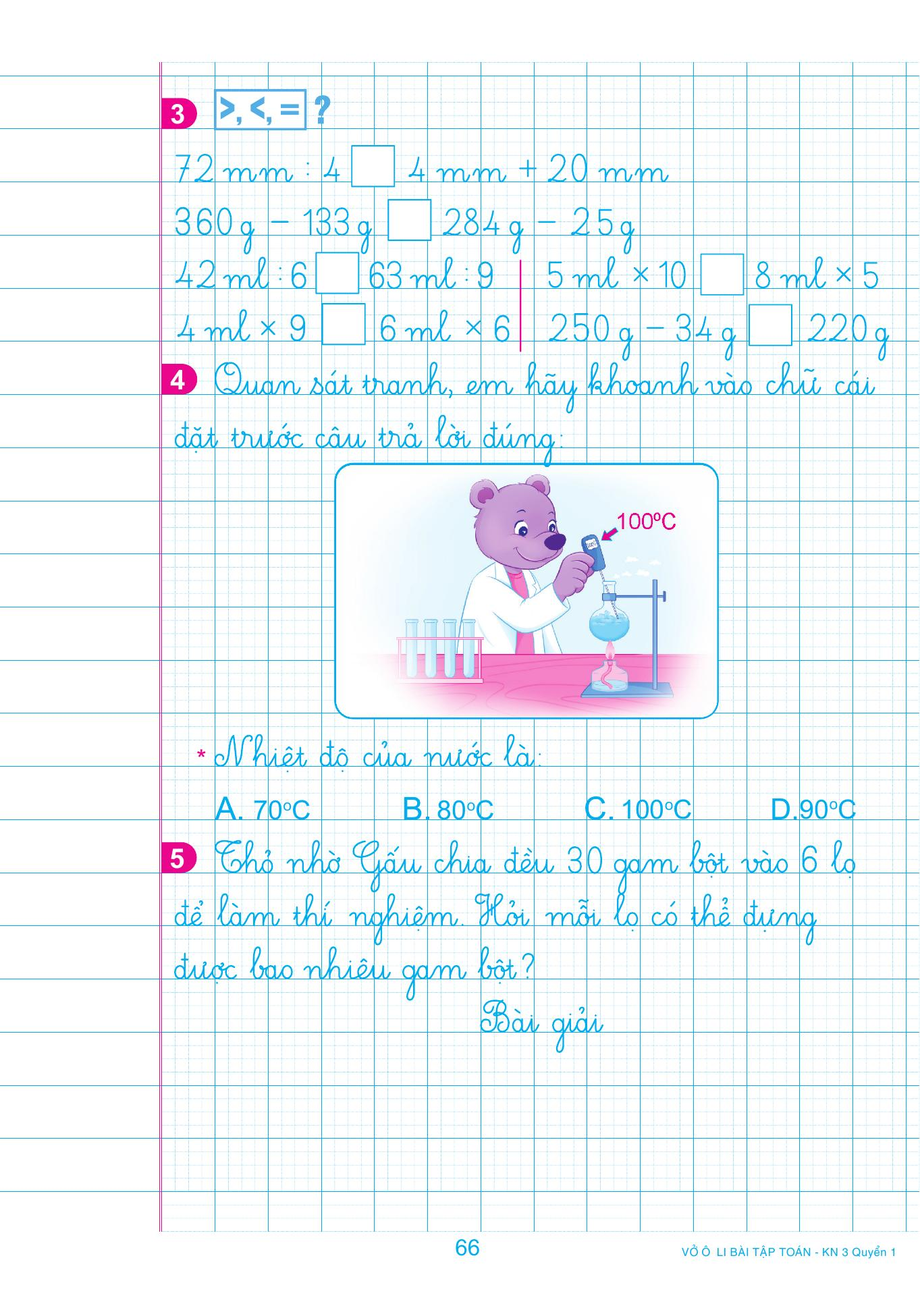None: (161, 78, 920, 360)
Trắc nghiệm: (159, 360, 920, 830)
Tự luận: (161, 838, 915, 1190)
